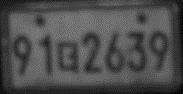1: (36, 34, 57, 77)
2: (81, 31, 102, 74)
3: (126, 30, 148, 72)
6: (103, 31, 126, 73)
9: (11, 34, 34, 76), (149, 30, 169, 72)
더: (57, 40, 80, 73)
